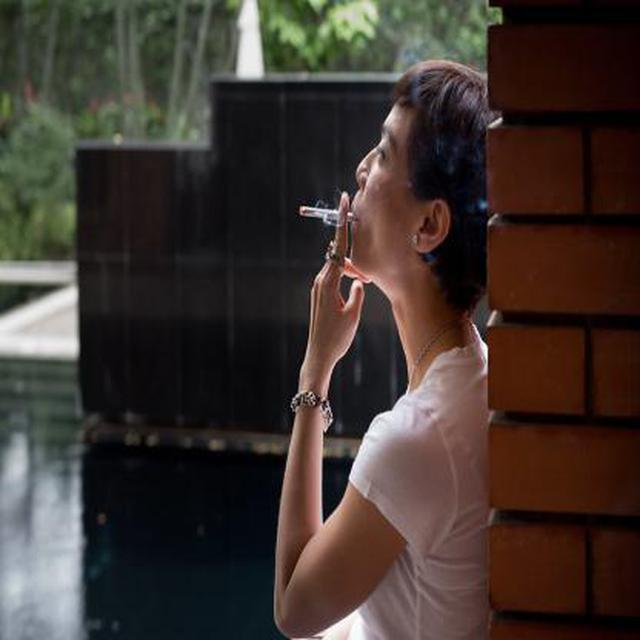smoking: (298, 204, 361, 224)
